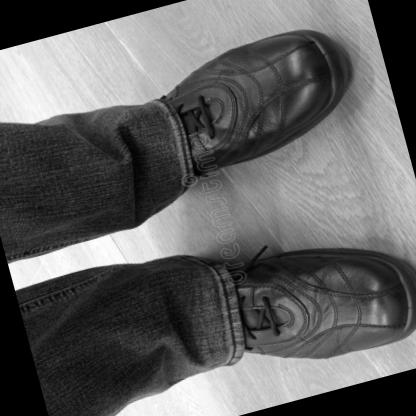ankle: (186, 135, 191, 140), (241, 304, 246, 309)
heel: (195, 171, 200, 176), (229, 267, 234, 272)
left_foot: (118, 11, 370, 193)
pinky: (259, 39, 275, 49), (358, 341, 370, 350)
right_foot: (171, 214, 416, 393)
toe: (309, 88, 323, 102), (369, 269, 383, 280)
